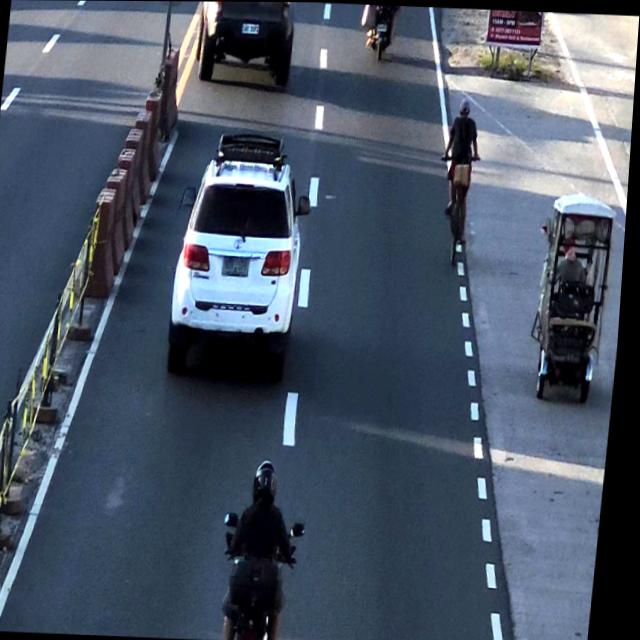Car: (169, 132, 315, 379), (190, 1, 299, 85)
License-Plate: (223, 250, 256, 277), (240, 19, 261, 39)
Motorcycle: (226, 459, 310, 640), (359, 4, 399, 61)
